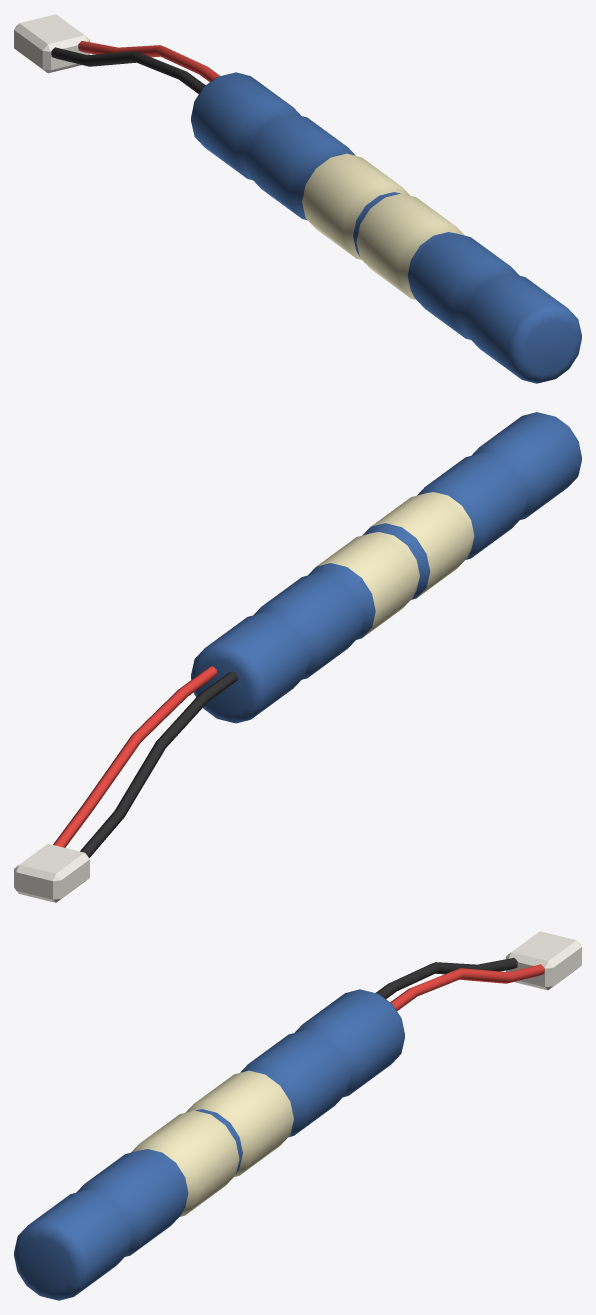
File: standardBattery.glb
3 views of the same model, one above another, from view 1: azimuth 30°, elevation 25°; view 2: azimuth 150°, elevation 25°; view 3: azimuth 330°, elevation 25° (orthographic).
Parts seen in each view (by area): view 1: Battery; view 2: Battery; view 3: Battery.
Boxes of the visible parts, box(x1,y1,x2,y2) form: Battery: box(14, 14, 581, 383); Battery: box(14, 412, 581, 902); Battery: box(14, 931, 581, 1300).
Size of the model in its own units: 0.0172 by 0.0251 by 0.208.
